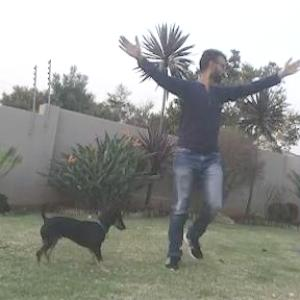takeoff: (116, 33, 299, 273)
